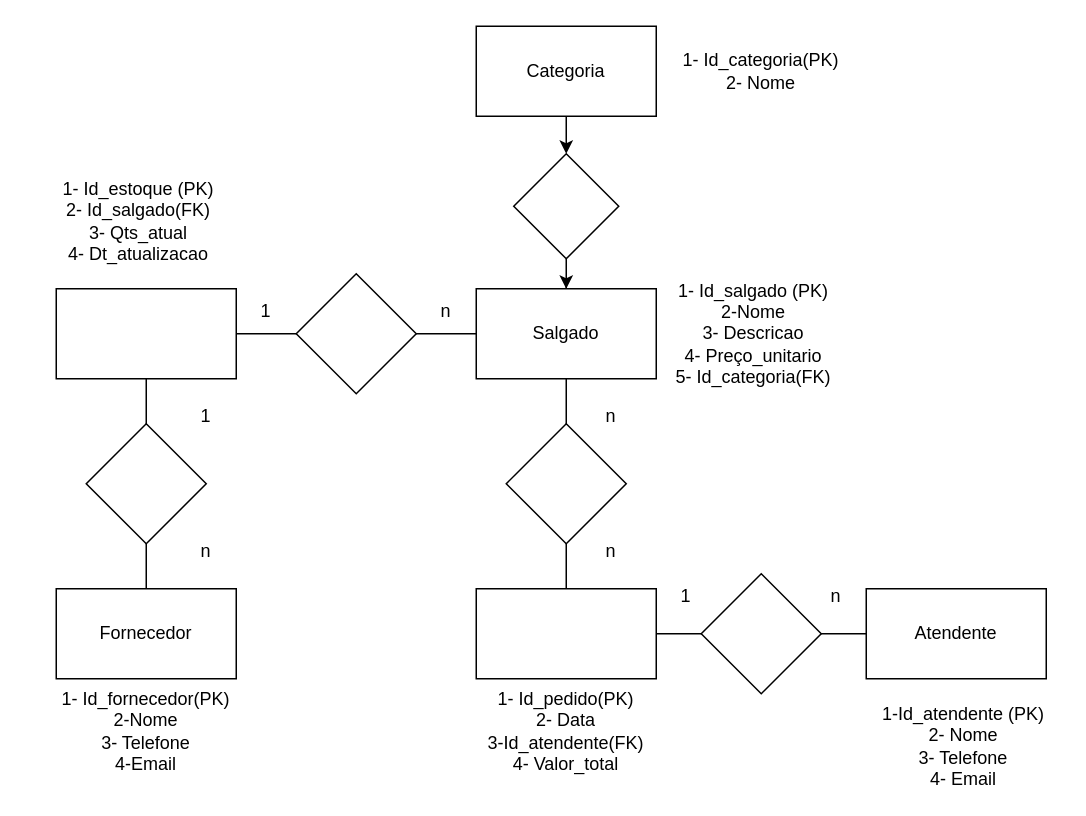
This 1086x816 diagram has some shape labels left out. The centre of each missing label's shape, as x and y in pixels:
"Estoque" goes at point 145,333.
"Pedido" goes at point 565,633.
